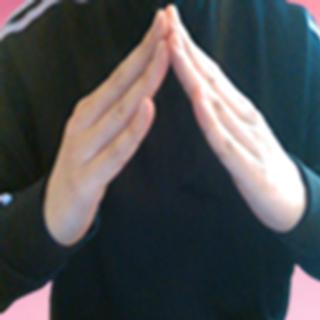HOME: (44, 2, 304, 245)
